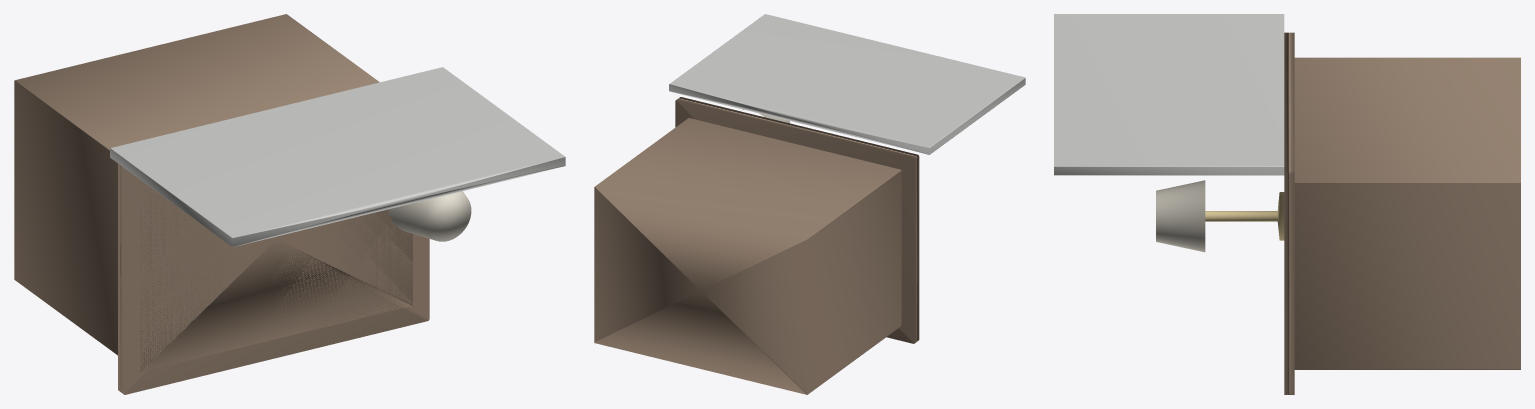
File: home.glb
3 renders of one model, left to right at view 1: azimuth 30°, elevation 25°; view 2: azimuth 150°, elevation 25°; view 3: azimuth 270°, elevation 25°, orthographic. The views are drawn at different scales.
Parts seen in each view (by area): view 1: carcass, wall, top, shade; view 2: carcass, wall, top; view 3: carcass, wall, top, shade, lamp_base.
Boxes of the visible parts, left/top/right/bottom form: carcass: left=14, top=14, right=412, bottom=371; wall: left=110, top=67, right=565, bottom=246; top: left=118, top=163, right=429, bottom=394; shade: left=388, top=191, right=471, bottom=241; carcass: left=594, top=118, right=901, bottom=394; wall: left=669, top=14, right=1025, bottom=154; top: left=675, top=97, right=919, bottom=343; carcass: left=1294, top=57, right=1520, bottom=369; wall: left=1054, top=14, right=1284, bottom=175; top: left=1284, top=32, right=1294, bottom=394; shade: left=1156, top=180, right=1205, bottom=252; lamp_base: left=1205, top=192, right=1284, bottom=240.
Size of the model in its own units: 1.1 by 0.79 by 1.42.
